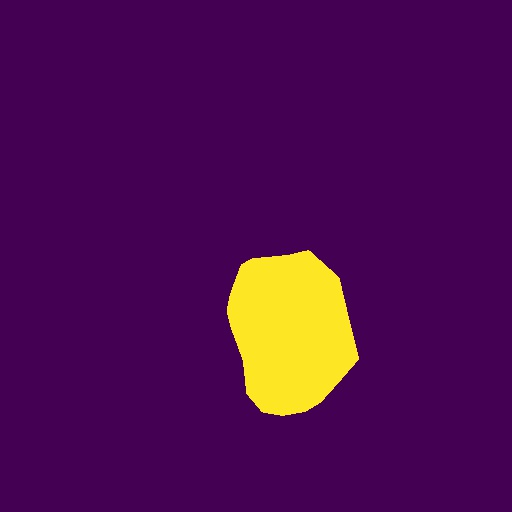Gliomia_tumour: (227, 250, 359, 416)
